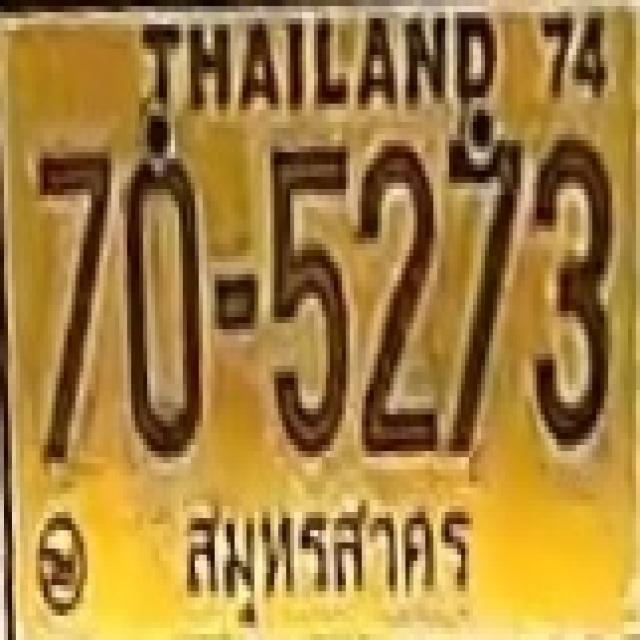0: (123, 146, 199, 451)
2: (356, 140, 435, 445), (354, 137, 433, 418)
3: (529, 131, 608, 442)
5: (268, 140, 348, 451)
7: (445, 128, 521, 451), (36, 146, 111, 457)
SKN: (172, 488, 479, 633)
